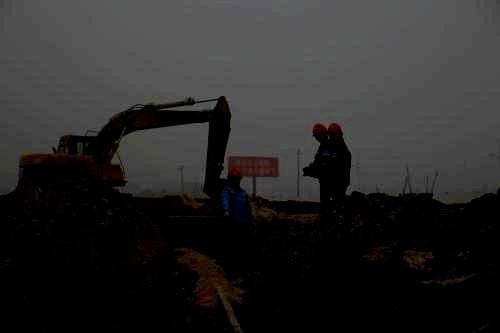helmet: (311, 123, 329, 144), (226, 166, 243, 186), (328, 123, 343, 143)
